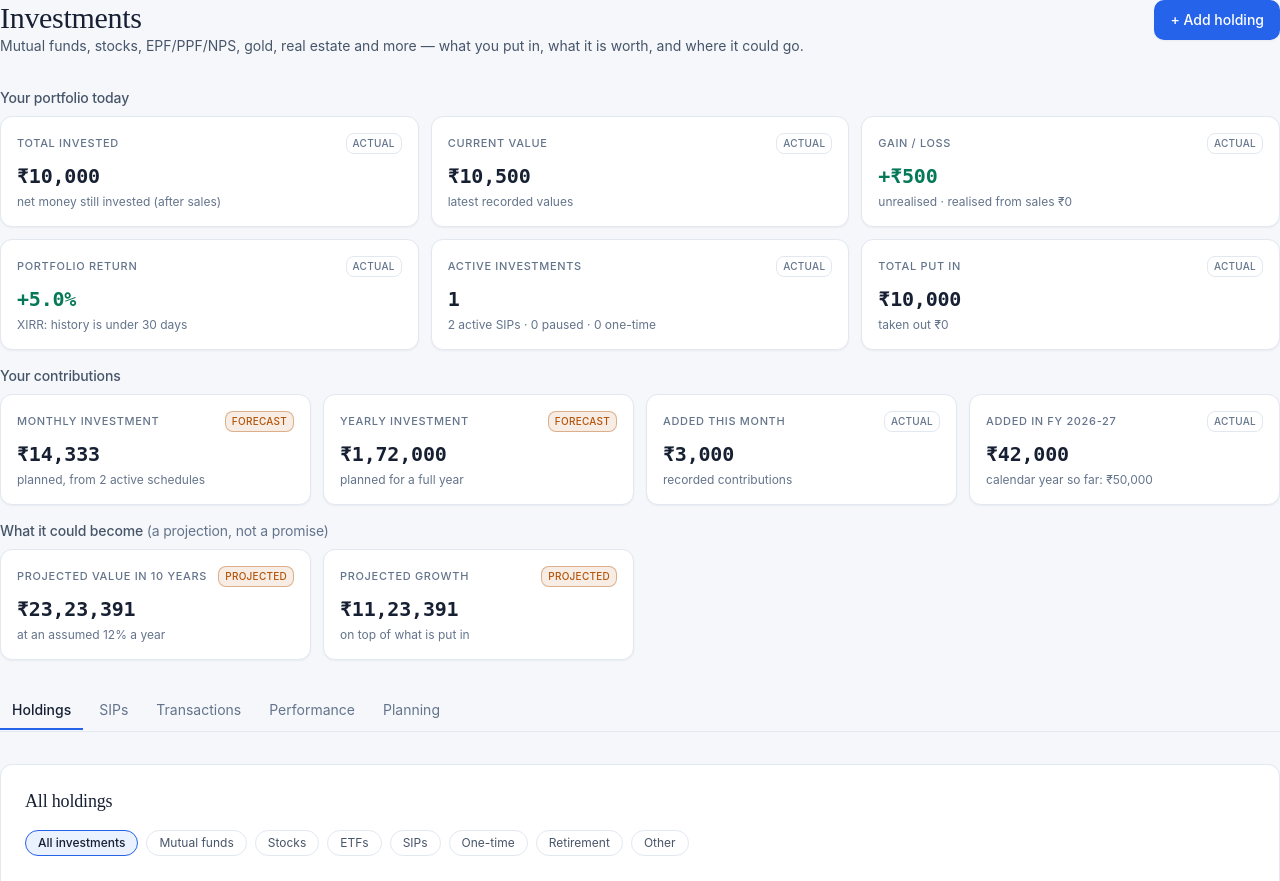
InvestmentsPage — overview › says what the gain trend is based on when only some holdings have a ledger
This screenshot has width=1280, height=881.
Click the tab "Performance". click: (312, 711)
box: x1=257 y1=692 x2=367 y2=730
(page scrolled)
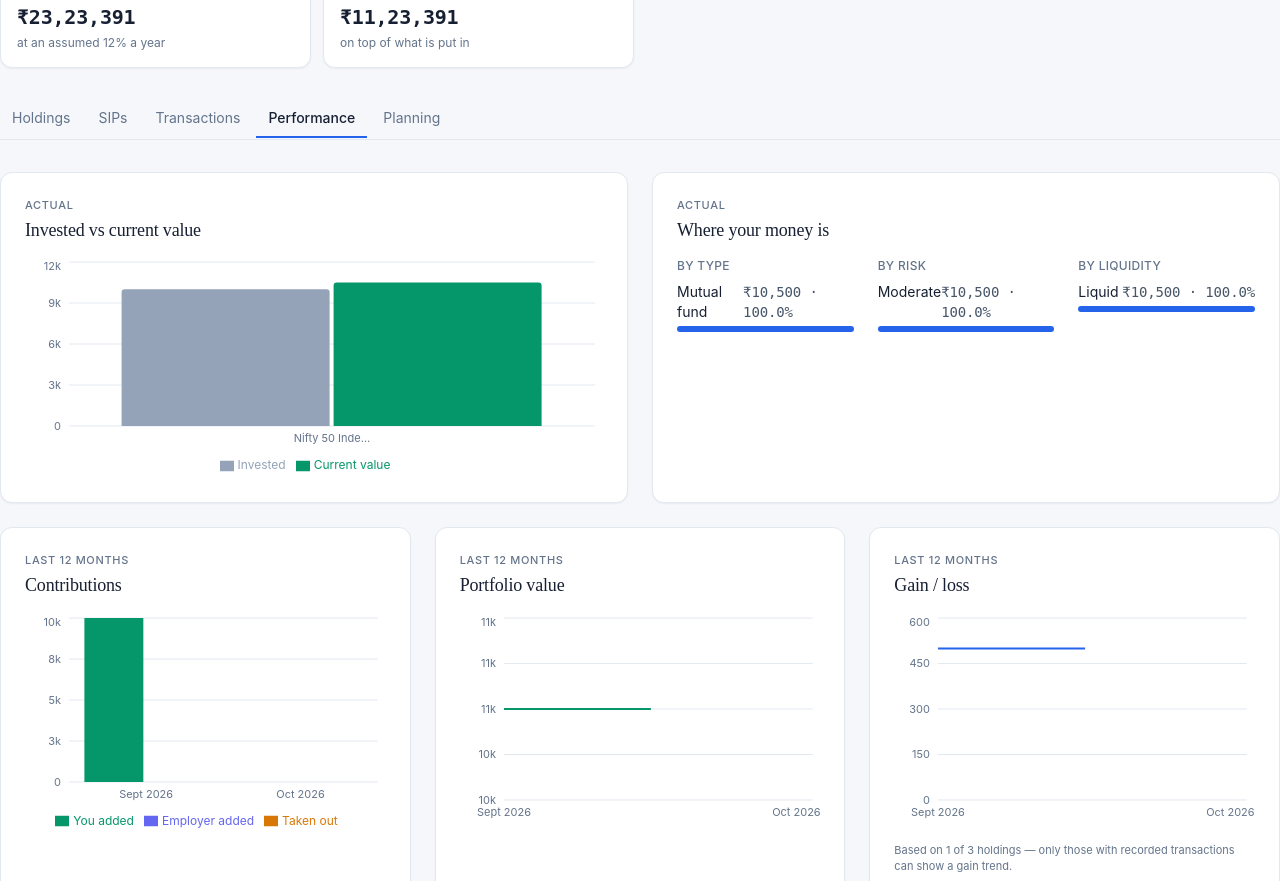
Now the text "Based on 1 of 3 holdings" is shown, box x1=894 y1=842 x2=1255 y2=874
